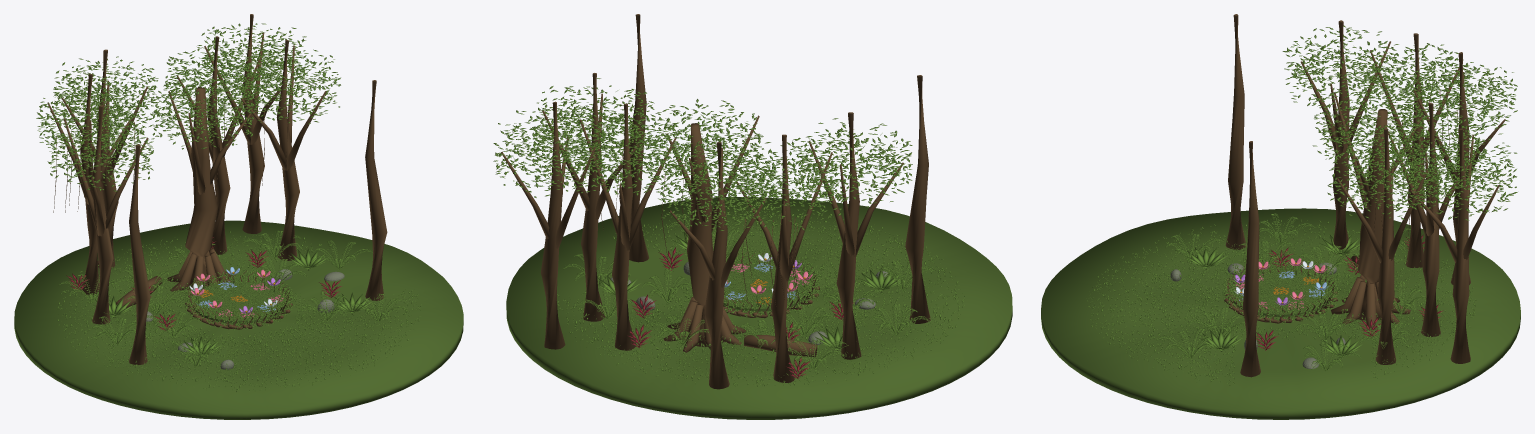
The picture shows the model from 3 angles, left to right: view 1: azimuth 30°, elevation 25°; view 2: azimuth 150°, elevation 25°; view 3: azimuth 270°, elevation 25°; orthographic projection. The views are drawn at different scales.
Visible parts, largest first — view 1: TERRAIN_finite_working_domain, TREE_main_trunk, CANOPY_foliage_04, CANOPY_foliage_06, CANOPY_foliage_03, CANOPY_foliage_01, CANOPY_foliage_02, CANOPY_foliage_00, ISLAND_moss_bedding_inferred, CANOPY_foliage_05, TREE_background_05, TREE_background_04 (+25 smaller); view 2: TERRAIN_finite_working_domain, CANOPY_foliage_01, CANOPY_foliage_04, CANOPY_foliage_00, CANOPY_foliage_02, CANOPY_foliage_05, CANOPY_foliage_06, TREE_background_05, TREE_main_trunk, TREE_background_07, TREE_background_01, CANOPY_foliage_03 (+32 smaller); view 3: TERRAIN_finite_working_domain, CANOPY_foliage_03, CANOPY_foliage_05, CANOPY_foliage_01, CANOPY_foliage_04, CANOPY_foliage_06, CANOPY_foliage_00, TREE_main_trunk, TREE_background_04, TREE_background_05, CANOPY_foliage_02, TREE_background_03 (+26 smaller).
Part boxes in pixels (x1=…): TERRAIN_finite_working_domain: x1=14, y1=220, x2=463, y2=419; TREE_main_trunk: x1=185, y1=87, x2=217, y2=289; CANOPY_foliage_04: x1=47, y1=110, x2=154, y2=191; CANOPY_foliage_06: x1=149, y1=76, x2=254, y2=149; CANOPY_foliage_03: x1=233, y1=46, x2=340, y2=124; CANOPY_foliage_01: x1=53, y1=56, x2=159, y2=136; CANOPY_foliage_02: x1=163, y1=42, x2=271, y2=120; CANOPY_foliage_00: x1=36, y1=78, x2=144, y2=160; ISLAND_moss_bedding_inferred: x1=192, y1=281, x2=285, y2=323; CANOPY_foliage_05: x1=197, y1=23, x2=306, y2=98; TREE_background_05: x1=129, y1=144, x2=150, y2=364; TREE_background_04: x1=365, y1=80, x2=387, y2=300; TERRAIN_finite_working_domain: x1=506, y1=197, x2=1012, y2=419; CANOPY_foliage_01: x1=658, y1=149, x2=780, y2=233; CANOPY_foliage_04: x1=791, y1=118, x2=912, y2=207; CANOPY_foliage_00: x1=722, y1=142, x2=844, y2=230; CANOPY_foliage_02: x1=564, y1=112, x2=686, y2=195; CANOPY_foliage_05: x1=493, y1=108, x2=614, y2=197; CANOPY_foliage_06: x1=646, y1=99, x2=763, y2=188; TREE_background_05: x1=905, y1=75, x2=930, y2=323; TREE_main_trunk: x1=684, y1=123, x2=724, y2=346; TREE_background_07: x1=541, y1=101, x2=565, y2=349; TREE_background_01: x1=704, y1=142, x2=729, y2=389; CANOPY_foliage_03: x1=533, y1=78, x2=655, y2=168; TERRAIN_finite_working_domain: x1=1041, y1=208, x2=1520, y2=419; CANOPY_foliage_03: x1=1327, y1=134, x2=1443, y2=219; CANOPY_foliage_05: x1=1402, y1=134, x2=1517, y2=220; CANOPY_foliage_01: x1=1403, y1=58, x2=1517, y2=141; CANOPY_foliage_04: x1=1282, y1=25, x2=1398, y2=109; CANOPY_foliage_06: x1=1312, y1=88, x2=1429, y2=172; CANOPY_foliage_00: x1=1357, y1=43, x2=1472, y2=125; TREE_main_trunk: x1=1358, y1=109, x2=1387, y2=320; TREE_background_04: x1=1240, y1=141, x2=1260, y2=377; TREE_background_05: x1=1225, y1=14, x2=1246, y2=250; CANOPY_foliage_02: x1=1372, y1=112, x2=1489, y2=193; TREE_background_03: x1=1375, y1=128, x2=1395, y2=364.
Size of the model in its own units: 32 by 17.66 by 32.
